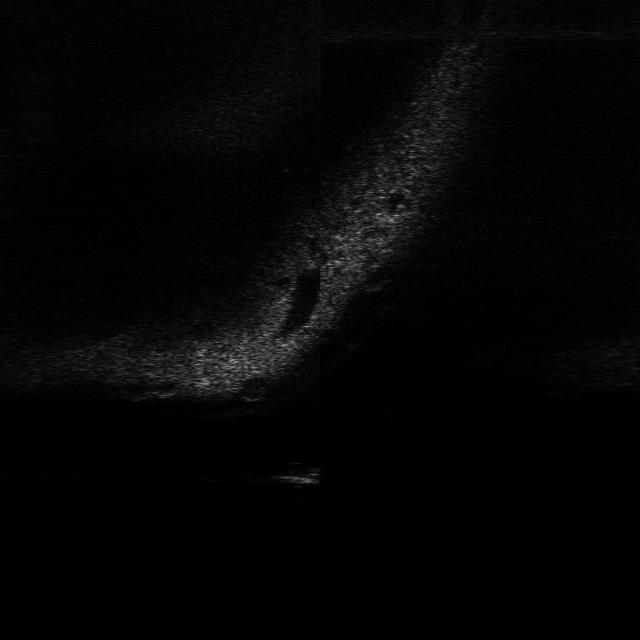cube: (268, 463, 324, 489)
